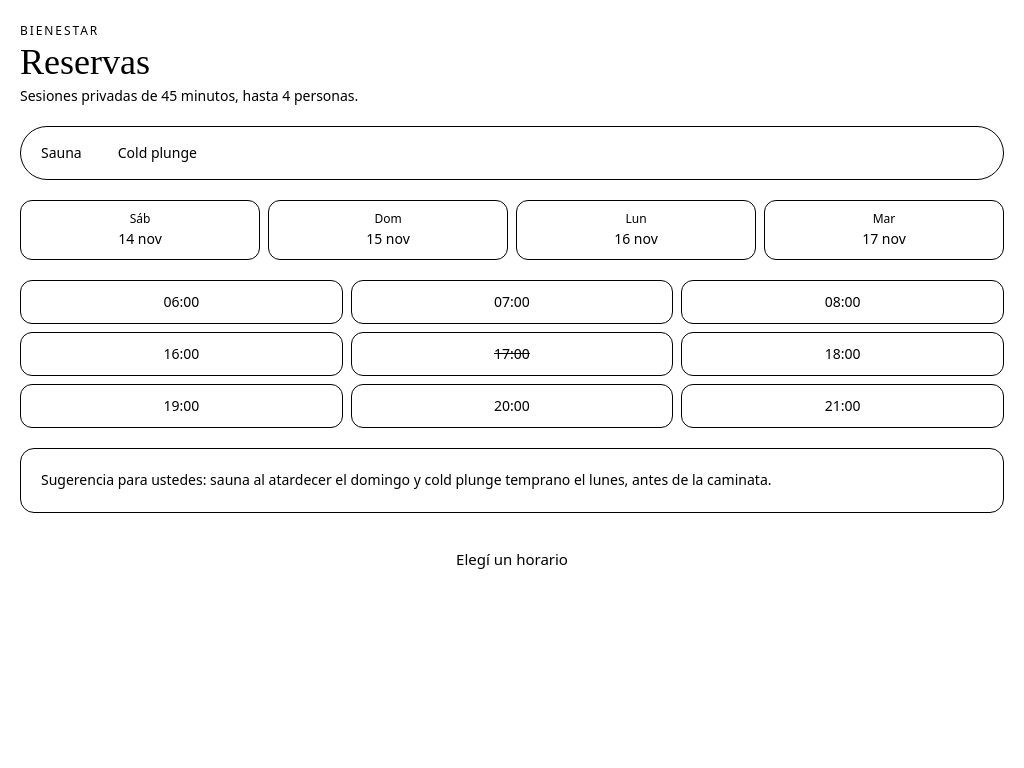
elegir instalación y día › cambiar a cold plunge cambia la descripción
Click the radio button labelled "Cold plunge" at [157, 153], box [102,131,213,175]
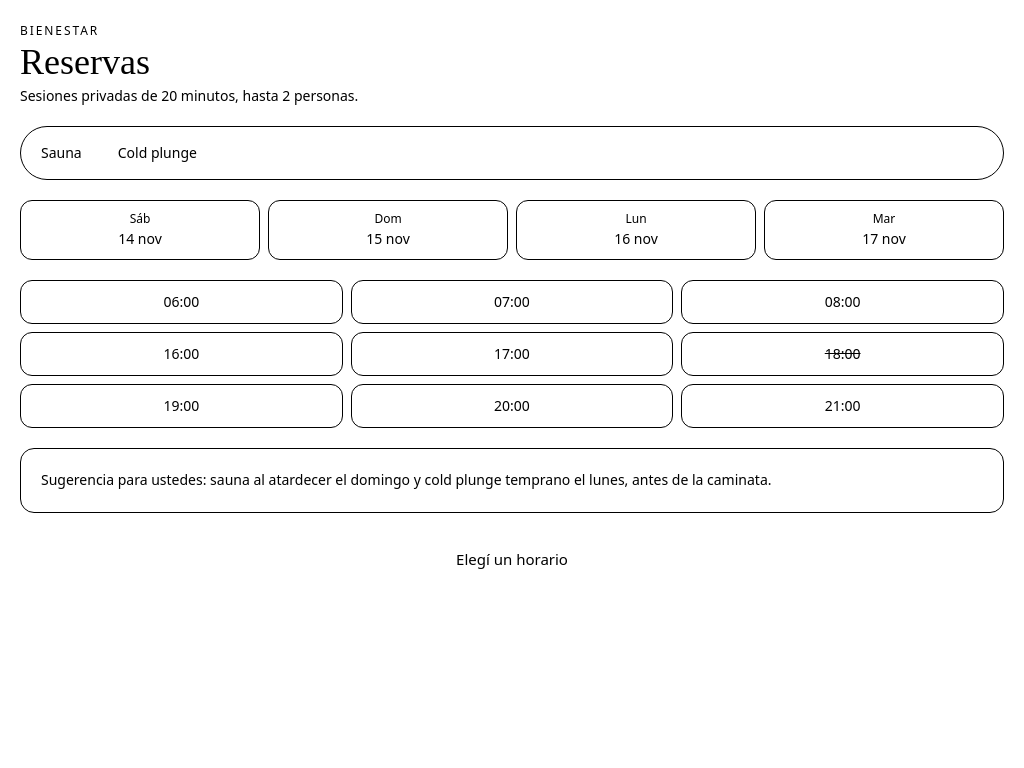
Check: the text "Sesiones privadas de 20 minutos, hasta 2 personas." is shown, box [20,86,358,106]
